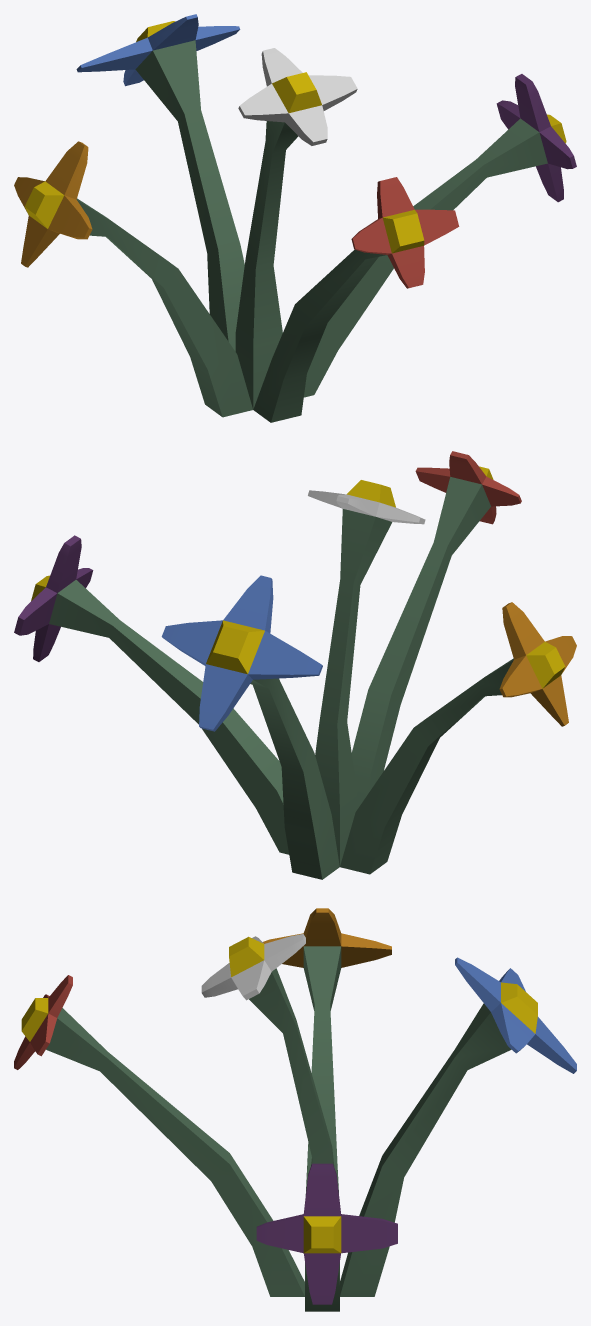
Rendered from FLOWERS_mod.fbx.
3 renders of one model, top to bottom at view 1: azimuth 30°, elevation 25°; view 2: azimuth 150°, elevation 25°; view 3: azimuth 270°, elevation 25°, orthographic.
Visible parts, largest first — view 1: pasted__pCube1; view 2: pasted__pCube1; view 3: pasted__pCube1.
Part boxes in pixels (x1,y1,x2,y2): pasted__pCube1: (14,14,576,422); pasted__pCube1: (14,451,576,879); pasted__pCube1: (14,908,576,1311).
Size of the model in its own units: 2.71 by 1.72 by 2.49.
